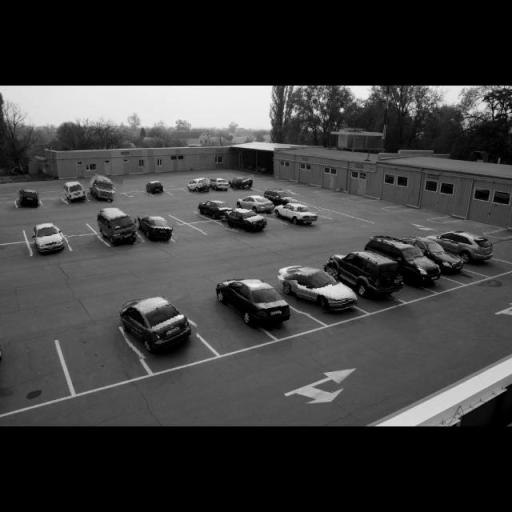busy: (120, 294, 200, 358), (280, 264, 356, 317), (219, 278, 296, 328), (332, 250, 400, 300), (372, 236, 439, 282), (94, 208, 144, 246), (440, 230, 498, 262), (412, 238, 458, 271), (26, 222, 68, 254), (132, 215, 178, 244), (221, 207, 267, 233), (273, 202, 319, 224), (88, 175, 122, 203), (194, 198, 234, 218), (240, 196, 274, 214), (60, 182, 87, 204), (15, 188, 41, 209), (258, 187, 292, 203), (184, 178, 210, 195), (230, 176, 256, 192), (144, 181, 166, 197), (207, 178, 228, 192)
free: (1, 360, 60, 398), (70, 340, 126, 378), (197, 316, 229, 338), (2, 245, 24, 261), (70, 236, 96, 249), (0, 230, 19, 242), (171, 226, 192, 236), (320, 208, 336, 221), (202, 225, 225, 234), (65, 224, 85, 234), (131, 189, 147, 200), (43, 198, 58, 208), (179, 215, 197, 222), (0, 202, 14, 211), (115, 194, 130, 200), (170, 190, 184, 196)
